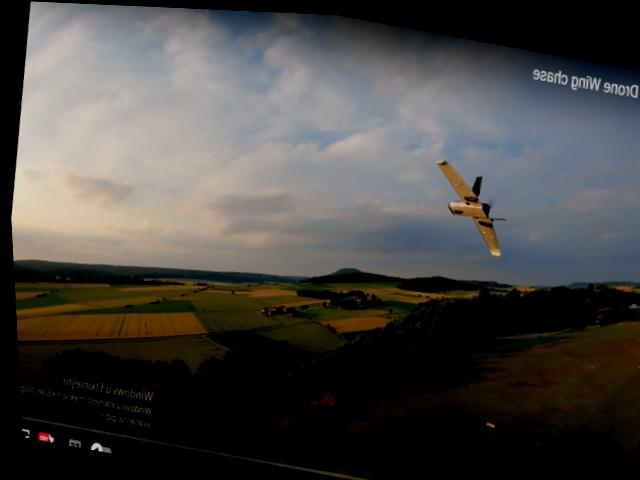plane: (421, 155, 513, 256)
